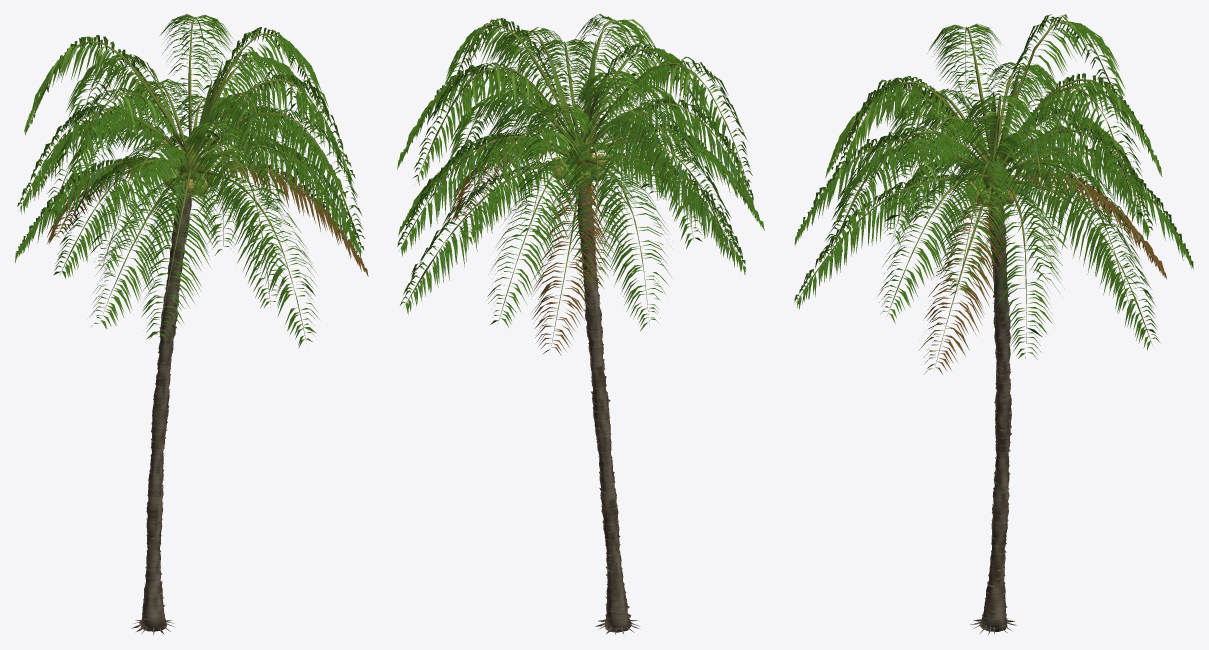
The model's file is KL_LS_Coconut_Tall_A_LOD2.gltf.
3 views of the same model, side by side, from view 1: azimuth 30°, elevation 25°; view 2: azimuth 150°, elevation 25°; view 3: azimuth 270°, elevation 25° (orthographic). The views are drawn at different scales.
Parts seen in each view (by area): view 1: TF3_KL_LS_Coconut_Tall_A_LOD2; view 2: TF3_KL_LS_Coconut_Tall_A_LOD2; view 3: TF3_KL_LS_Coconut_Tall_A_LOD2.
Boxes of the visible parts, box(x1,y1,x2,y2) form: TF3_KL_LS_Coconut_Tall_A_LOD2: box(15, 14, 368, 635); TF3_KL_LS_Coconut_Tall_A_LOD2: box(397, 14, 764, 634); TF3_KL_LS_Coconut_Tall_A_LOD2: box(794, 14, 1193, 634).
Bounding box in the file's own units: 8.46 × 14.71 × 9.04.
9 materials, 3 textured.
